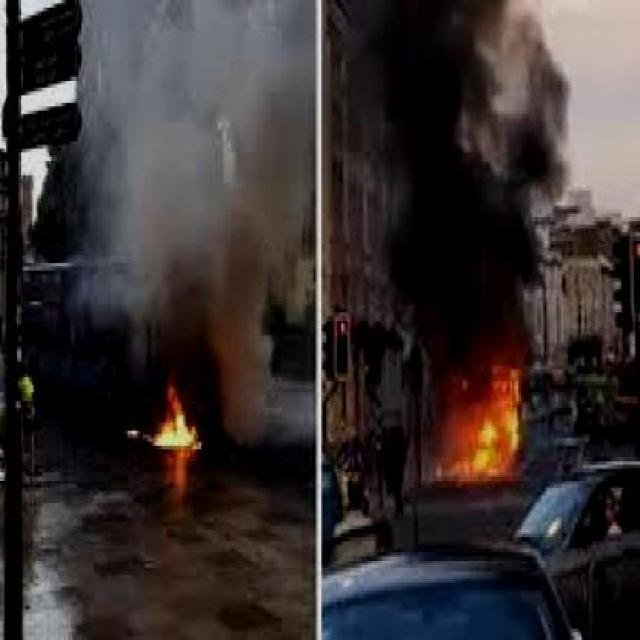Fire: (431, 338, 540, 488), (120, 358, 216, 464)
Smoke: (64, 0, 313, 332), (327, 0, 567, 332), (203, 152, 269, 465)
